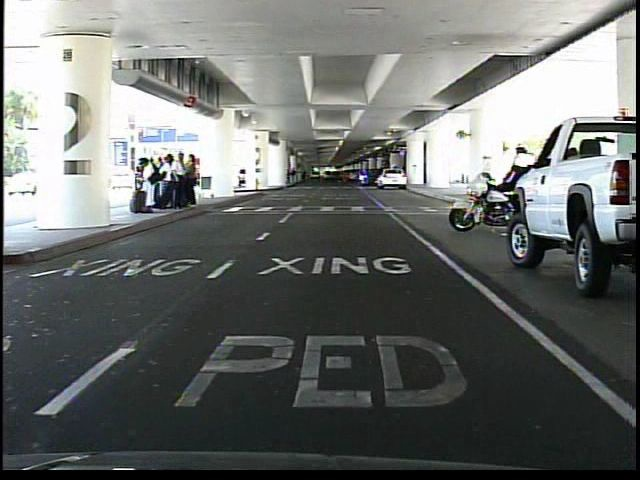person: (502, 137, 542, 234)
